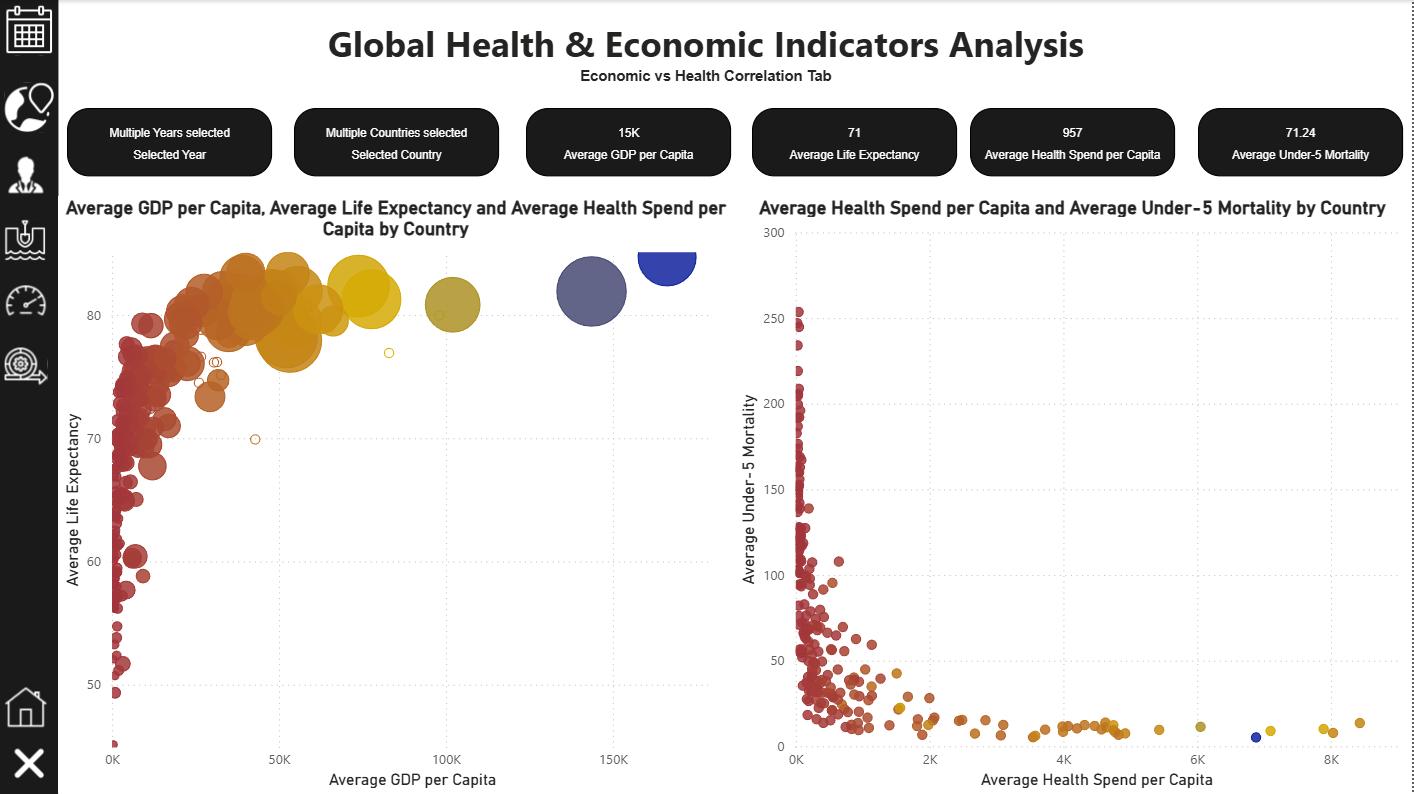

This screenshot's page, from the dashboard's own definition file:
{"tool":"powerbi","page":{"name":"Economic vs Health Correlation","canvas":[1280,720],"ordinal":2},"visuals":[{"type":"shape","title":"Side Bar","box":[0,0,53,720],"z":0},{"type":"card","title":"Average Life Expectancy Card","fields":{"Values":["Measure.Average Life Expectancy"]},"box":[682,98,186,62],"z":1000},{"type":"card","title":"Average GDP per Capita Card","fields":{"Values":["Measure.Average GDP per Capita"]},"box":[477,98,186,62],"z":2000},{"type":"card","title":"Average Health Spend per Capita Card","fields":{"Values":["Measure.Average Health Spend per Capita"]},"box":[880,98,186,62],"z":3000},{"type":"card","title":"Average Under-5 Mortality Card","fields":{"Values":["Measure.Average Under-5 Mortality"]},"box":[1086,98,186,62],"z":4000},{"type":"textbox","title":"Report Name Text Box","box":[154,12,972,76],"z":5000},{"type":"actionButton","title":"Date Filter Button","box":[0,0,53,55],"z":6000},{"type":"scatterChart","fields":{"X":["Measure.Average GDP per Capita"],"Y":["Measure.Average Life Expectancy"],"Size":["Measure.Average Health Spend per Capita"],"Category":["dim_country.country_name"]},"box":[53,178,613,542],"z":6500},{"type":"scatterChart","fields":{"Category":["dim_country.country_name"],"X":["Measure.Average Health Spend per Capita"],"Y":["Measure.Average Under-5 Mortality"]},"box":[666,178,614,542],"z":6750},{"type":"actionButton","title":"Country Filter Button","box":[0,70,53,55],"z":7000},{"type":"card","title":"Selected Country Card","fields":{"Values":["Measure.Selected Country"]},"box":[267,98,186,62],"z":8000},{"type":"card","title":"Selected Year Card","fields":{"Values":["Measure.Selected Year"]},"box":[61,98,186,62],"z":9000},{"type":"actionButton","title":"Home page Button","box":[0,618.5,52.3,47],"z":10000},{"type":"actionButton","title":"Executive Summary Tab Button","box":[0,135.5,52.3,47],"z":10062},{"type":"actionButton","title":"Indicator Trends Tab Button","box":[0,249.6,52.3,47],"z":10125},{"type":"actionButton","title":"Country Deep Dive Tab Button","box":[0,194.5,52.3,45.6],"z":10250},{"type":"actionButton","title":"Data & Methodology Tab Button","box":[0,307.3,52.3,47],"z":10500},{"type":"actionButton","title":"Close Button","box":[0,665,53,55],"z":12000}]}

Visuals, with their boxes on the page's 1280x720 design canvas (x1, y1, x2, y2). These are canvas units, not pixel positions in the 1414x794 screenshot, which may show the page scaled, cropped or inside an application window:
"Side Bar" shape: bbox=[0, 0, 53, 720]
"Average Life Expectancy Card" card: bbox=[682, 98, 868, 160]
"Average GDP per Capita Card" card: bbox=[477, 98, 663, 160]
"Average Health Spend per Capita Card" card: bbox=[880, 98, 1066, 160]
"Average Under-5 Mortality Card" card: bbox=[1086, 98, 1272, 160]
"Report Name Text Box" textbox: bbox=[154, 12, 1126, 88]
"Date Filter Button" actionButton: bbox=[0, 0, 53, 55]
scatterChart - Measure.Average GDP per Capita x Measure.Average Life Expectancy: bbox=[53, 178, 666, 720]
scatterChart - dim_country.country_name x Measure.Average Health Spend per Capita: bbox=[666, 178, 1280, 720]
"Country Filter Button" actionButton: bbox=[0, 70, 53, 125]
"Selected Country Card" card: bbox=[267, 98, 453, 160]
"Selected Year Card" card: bbox=[61, 98, 247, 160]
"Home page Button" actionButton: bbox=[0, 618, 52, 666]
"Executive Summary Tab Button" actionButton: bbox=[0, 136, 52, 182]
"Indicator Trends Tab Button" actionButton: bbox=[0, 250, 52, 297]
"Country Deep Dive Tab Button" actionButton: bbox=[0, 194, 52, 240]
"Data & Methodology Tab Button" actionButton: bbox=[0, 307, 52, 354]
"Close Button" actionButton: bbox=[0, 665, 53, 720]
